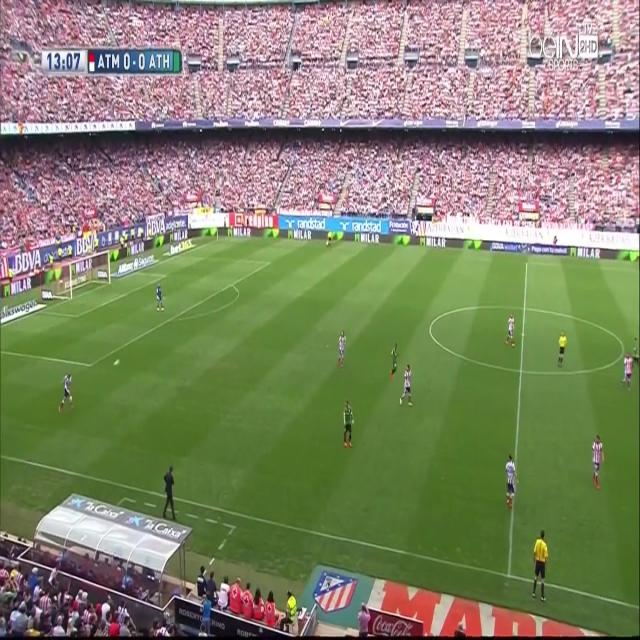Ball: (112, 355, 119, 369)
Goalkeeper: (154, 278, 166, 317)
Player: (589, 430, 607, 490), (397, 360, 415, 410), (504, 452, 518, 514), (342, 398, 355, 454), (56, 371, 74, 411), (619, 351, 635, 396), (503, 308, 518, 348), (388, 339, 400, 387), (334, 330, 348, 370)
Referee: (530, 527, 550, 606), (556, 328, 570, 373), (326, 227, 333, 249)
